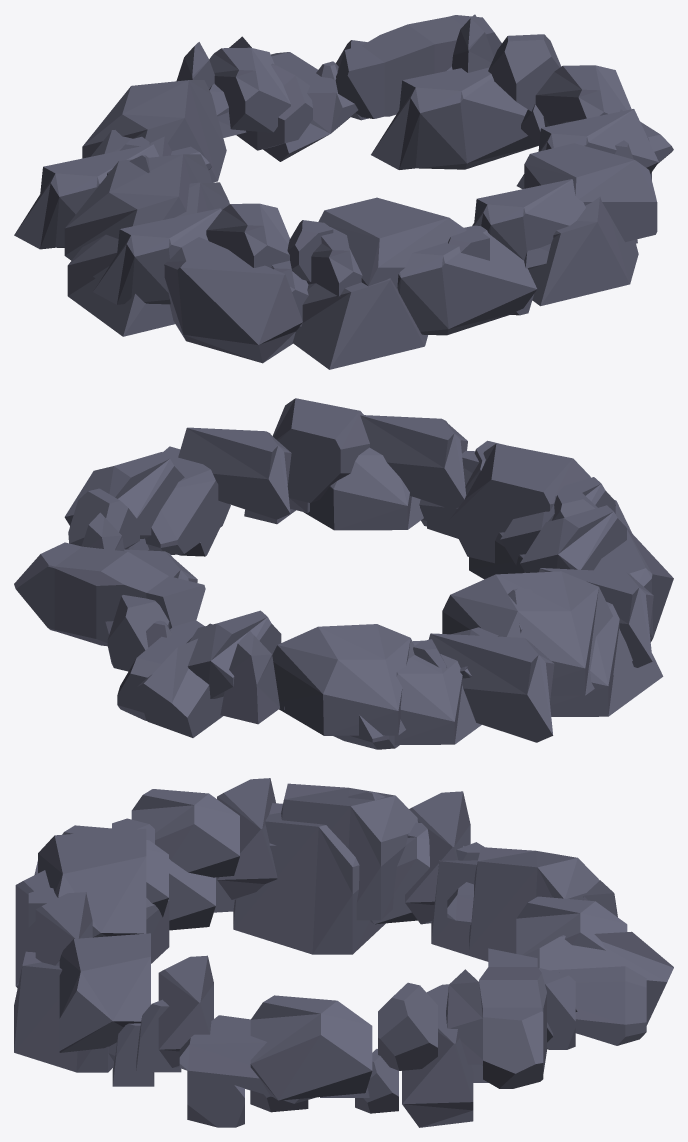
The model's file is rocks.glb.
The picture shows the model from 3 angles, top to bottom: view 1: azimuth 30°, elevation 25°; view 2: azimuth 150°, elevation 25°; view 3: azimuth 270°, elevation 25°; orthographic projection. The views are drawn at different scales.
Parts seen in each view (by area): view 1: sideRocks1; view 2: sideRocks1; view 3: sideRocks1.
Part boxes in pixels (x1,y1,x2,y2): sideRocks1: (14, 14, 673, 369); sideRocks1: (14, 398, 673, 749); sideRocks1: (14, 778, 673, 1127).
Size of the model in its own units: 1.09 by 0.2513 by 1.05.
Materials: 1 (1 with a texture image).
